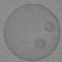small: (34, 39, 46, 49), (45, 22, 56, 32)
